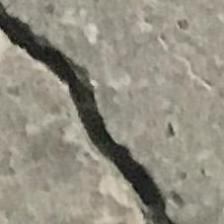Crack: (1, 0, 189, 224)
